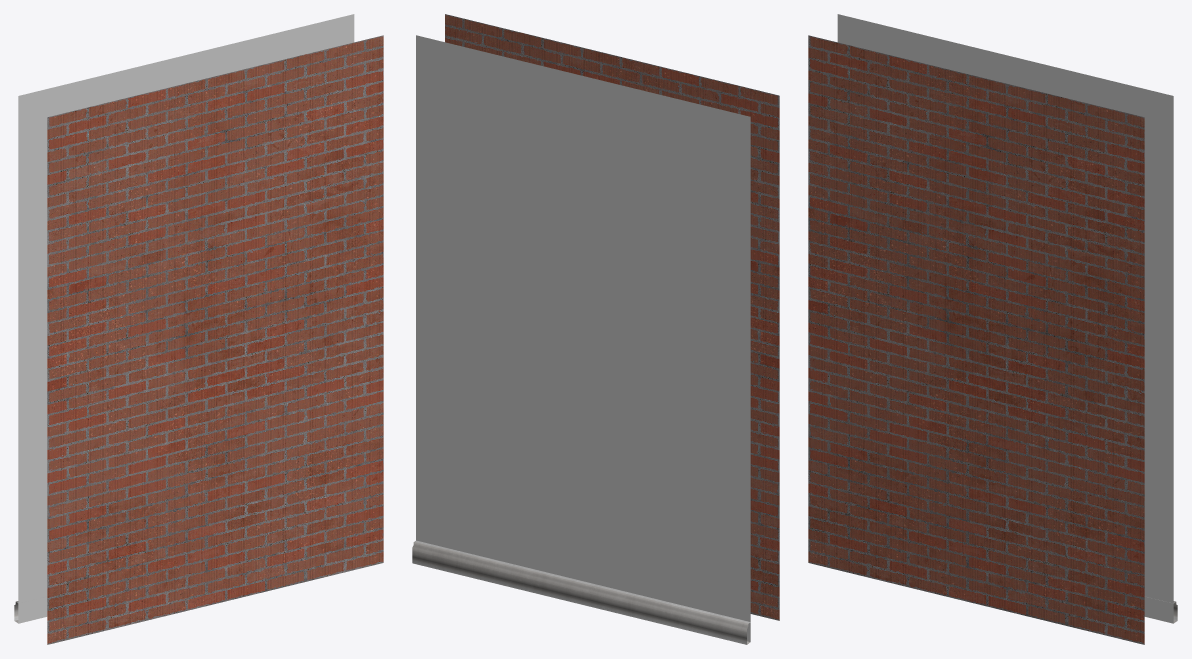
File: House_03_Wall_04.fbx
3 views of the same model, side by side, from view 1: azimuth 30°, elevation 25°; view 2: azimuth 150°, elevation 25°; view 3: azimuth 330°, elevation 25° (orthographic).
Parts seen in each view (by area): view 1: House_03_Wall_04; view 2: House_03_Wall_04; view 3: House_03_Wall_04.
Part boxes in pixels (left/top/right/bottom): House_03_Wall_04: left=14, top=14, right=383, bottom=644; House_03_Wall_04: left=412, top=14, right=779, bottom=644; House_03_Wall_04: left=808, top=14, right=1177, bottom=644.
Bounding box in the file's own units: 200 × 300 × 33.93.
